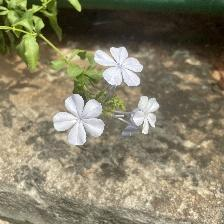chitrak: (52, 91, 114, 150), (92, 43, 145, 90), (133, 96, 162, 135)
